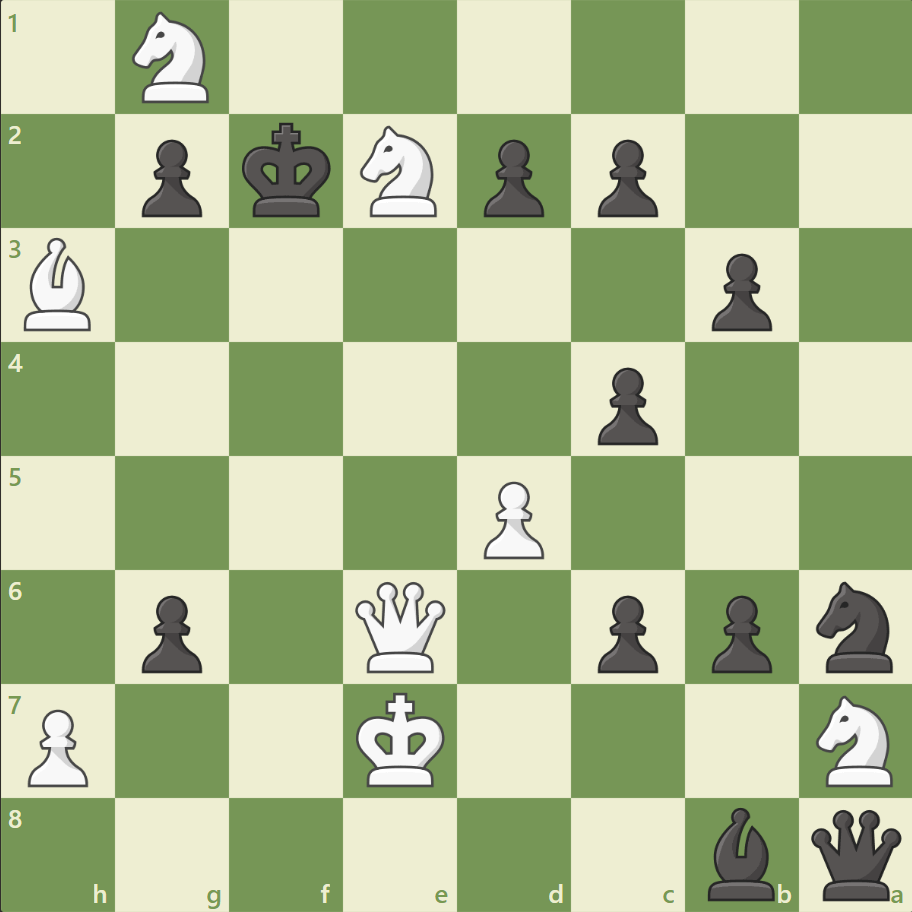B: (17, 233, 101, 336)
K: (351, 685, 451, 793)
N: (124, 7, 222, 110), (351, 121, 449, 223), (806, 688, 903, 791)
P: (20, 700, 95, 791), (474, 473, 549, 564)
Q: (351, 576, 450, 676)
b: (698, 801, 782, 904)
k: (238, 117, 338, 225)
n: (806, 575, 903, 677)
p: (701, 586, 776, 677), (133, 586, 208, 677), (701, 246, 776, 337), (474, 132, 549, 223), (133, 132, 208, 223), (588, 586, 662, 677), (588, 359, 662, 450), (588, 132, 662, 223)
q: (805, 804, 904, 903)
